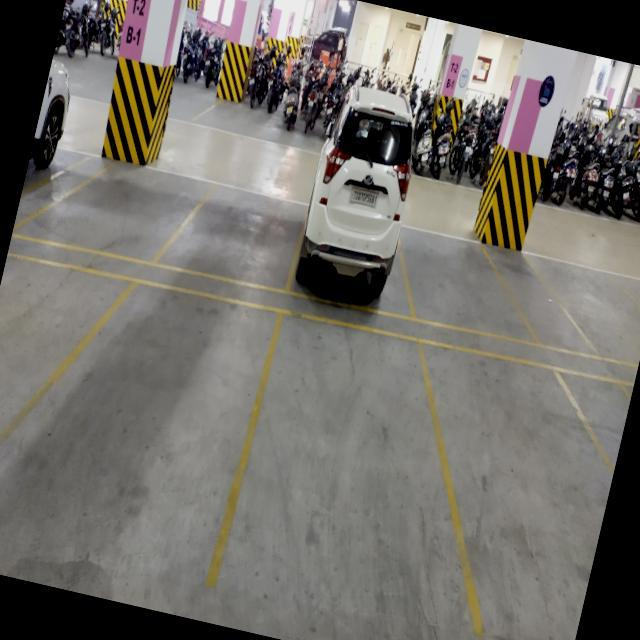car: (289, 80, 460, 333)
free: (202, 302, 548, 640), (0, 250, 286, 616), (350, 333, 633, 640), (10, 138, 216, 284), (379, 219, 558, 355), (149, 170, 306, 304)
